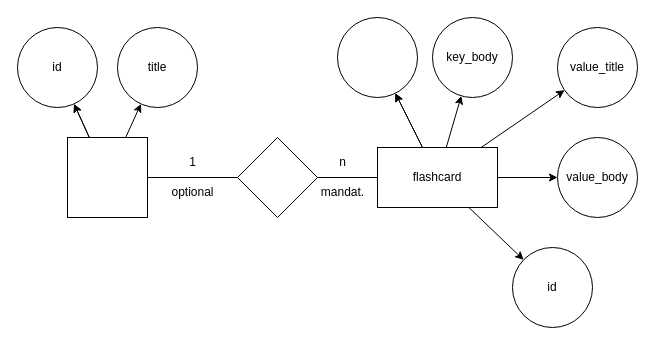
The diagram is 655 pixels wide and 345 high, and some of its shapes have lost their labels. The shapes that lost their labels are listed below. From the top down, each one's centre as x and y in pixels, then its label:
point 377,57: key_title
point 107,177: flashcard_list
point 277,177: contains
